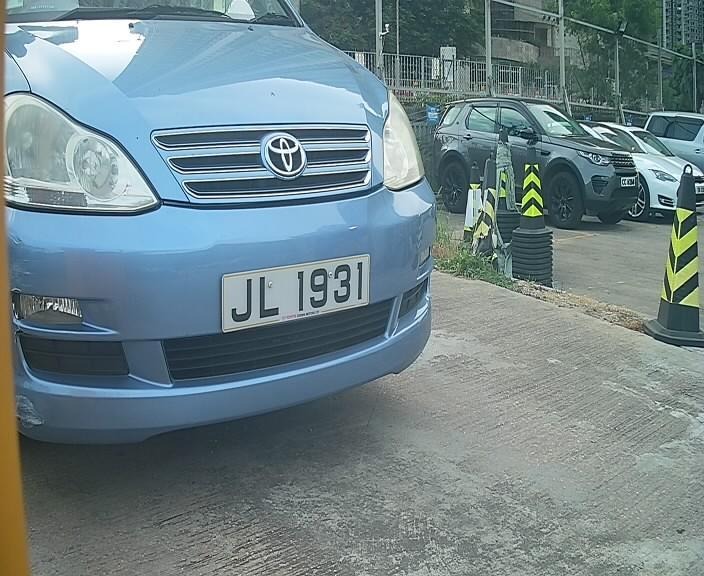privatecar: (13, 8, 466, 438)
